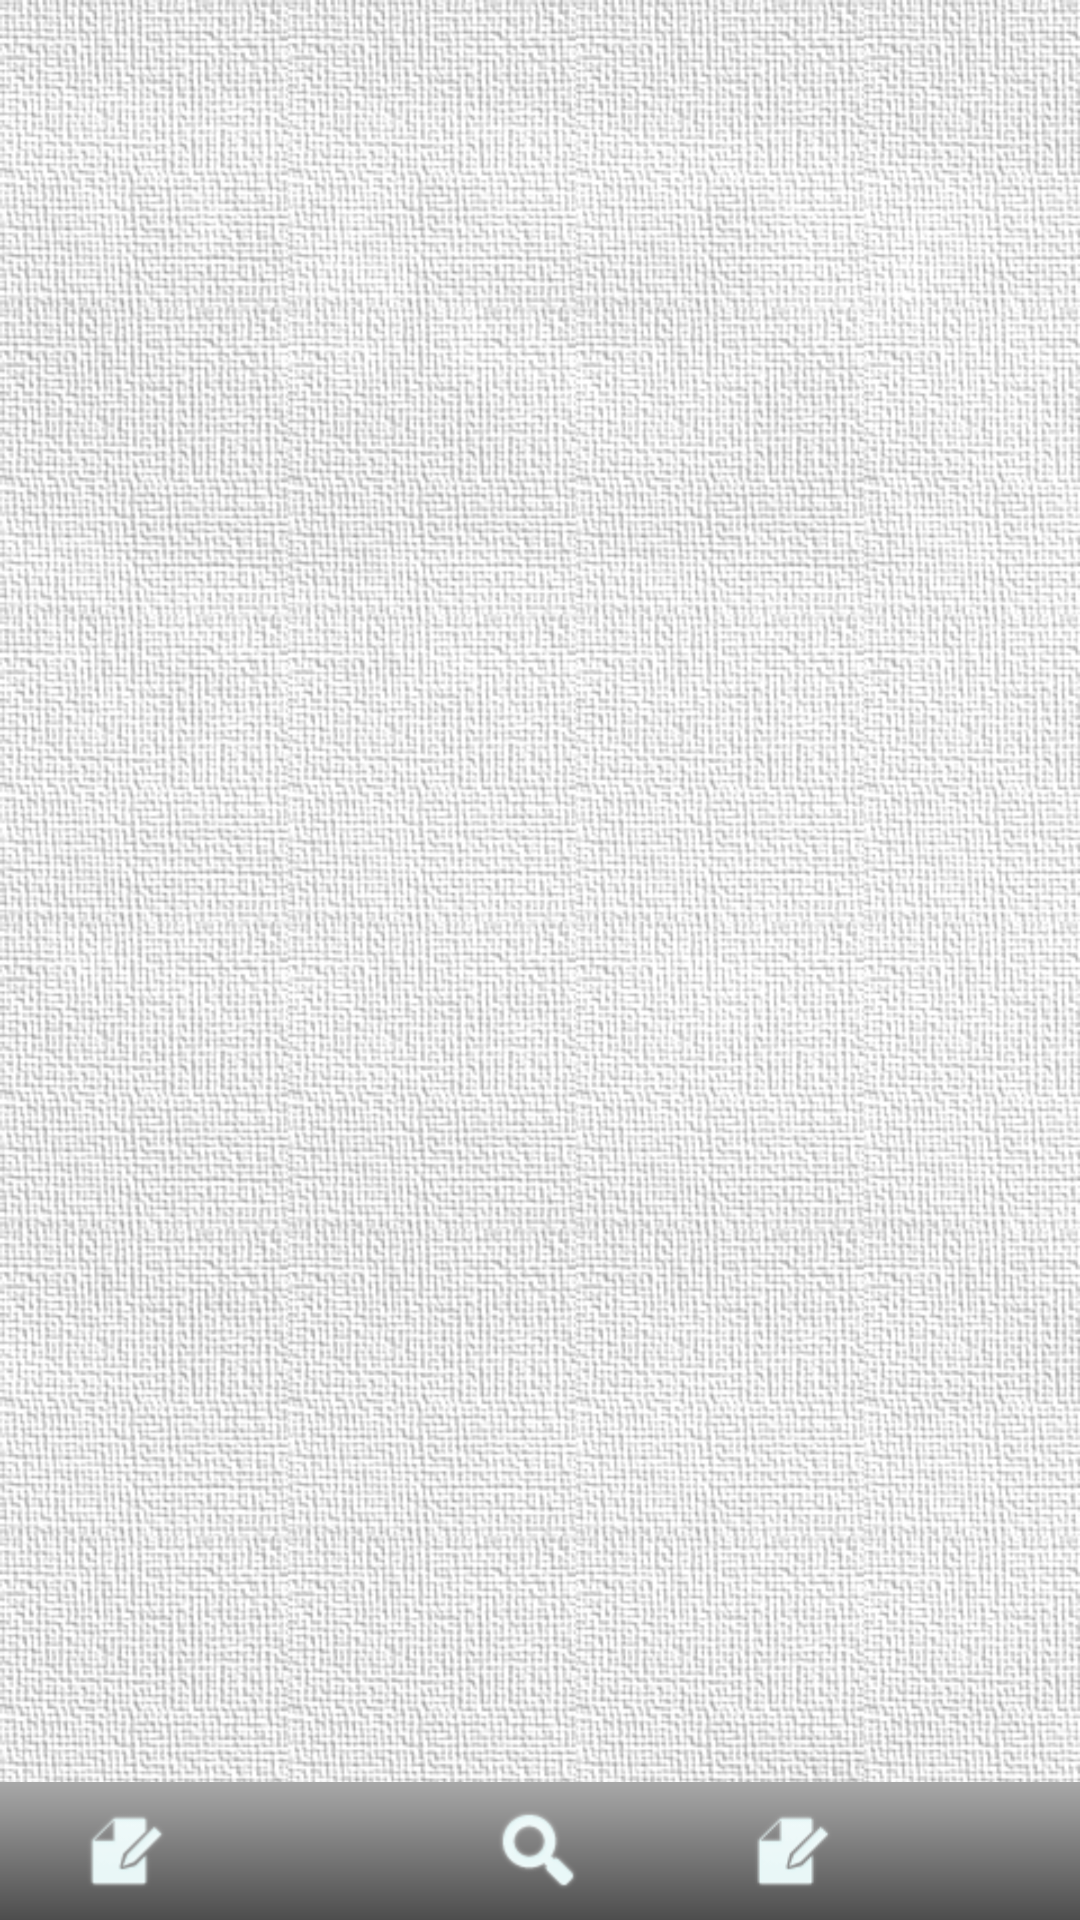

Point at icon controls on the screen. Image size 1080x1920, points as (x,y).
compose: (127,1851), (793,1851)
search: (539,1851)
